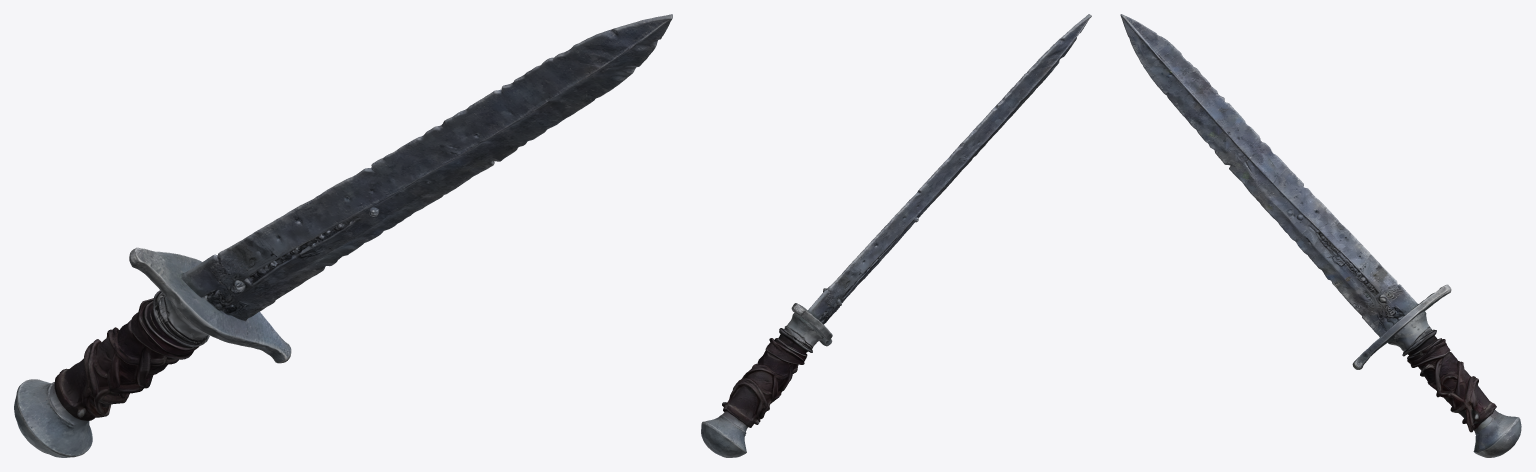
3 views of the same model, side by side, from view 1: azimuth 90°, elevation 25°; view 2: azimuth 150°, elevation 25°; view 3: azimuth 270°, elevation 25° (orthographic). The views are drawn at different scales.
Parts seen in each view (by area): view 1: tripo_node_9b68d6f9-e443-422a-91d9-5ace4f477586; view 2: tripo_node_9b68d6f9-e443-422a-91d9-5ace4f477586; view 3: tripo_node_9b68d6f9-e443-422a-91d9-5ace4f477586.
Boxes of the visible parts, x1,y1,x2,y2 form: tripo_node_9b68d6f9-e443-422a-91d9-5ace4f477586: [14, 14, 672, 457]; tripo_node_9b68d6f9-e443-422a-91d9-5ace4f477586: [701, 14, 1091, 457]; tripo_node_9b68d6f9-e443-422a-91d9-5ace4f477586: [1120, 14, 1521, 457].
Size of the model in its own units: 0.5925 by 0.9745 by 1.
Materials: 1 (1 with a texture image).
